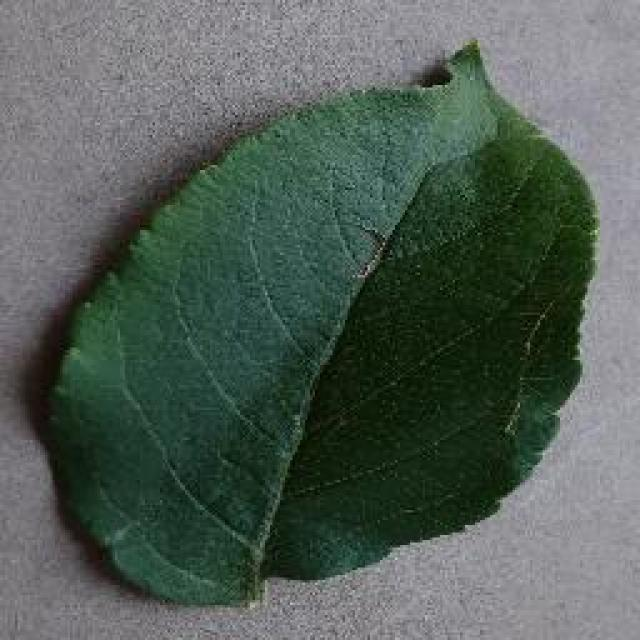apple healthy: (35, 35, 600, 607)
